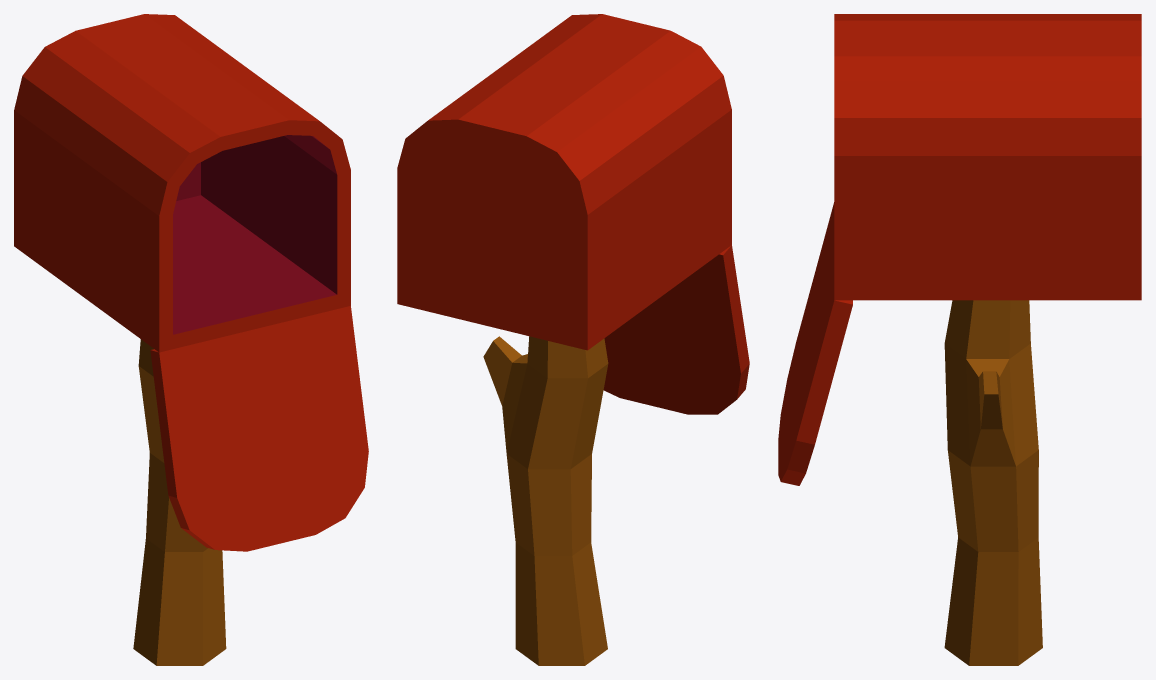
File: mailbox.fbx
3 views of the same model, side by side, from view 1: azimuth 30°, elevation 25°; view 2: azimuth 150°, elevation 25°; view 3: azimuth 270°, elevation 25° (orthographic). The views are drawn at different scales.
Parts seen in each view (by area): view 1: mailbox, mailbox_door; view 2: mailbox, mailbox_door; view 3: mailbox, mailbox_door.
Boxes of the visible parts, bbox=[...] form: mailbox: bbox=[14, 14, 350, 665]; mailbox_door: bbox=[150, 306, 368, 551]; mailbox: bbox=[397, 14, 731, 665]; mailbox_door: bbox=[603, 245, 749, 414]; mailbox: bbox=[834, 14, 1141, 665]; mailbox_door: bbox=[778, 202, 852, 485].
Size of the model in its own units: 130 by 372 by 201.
